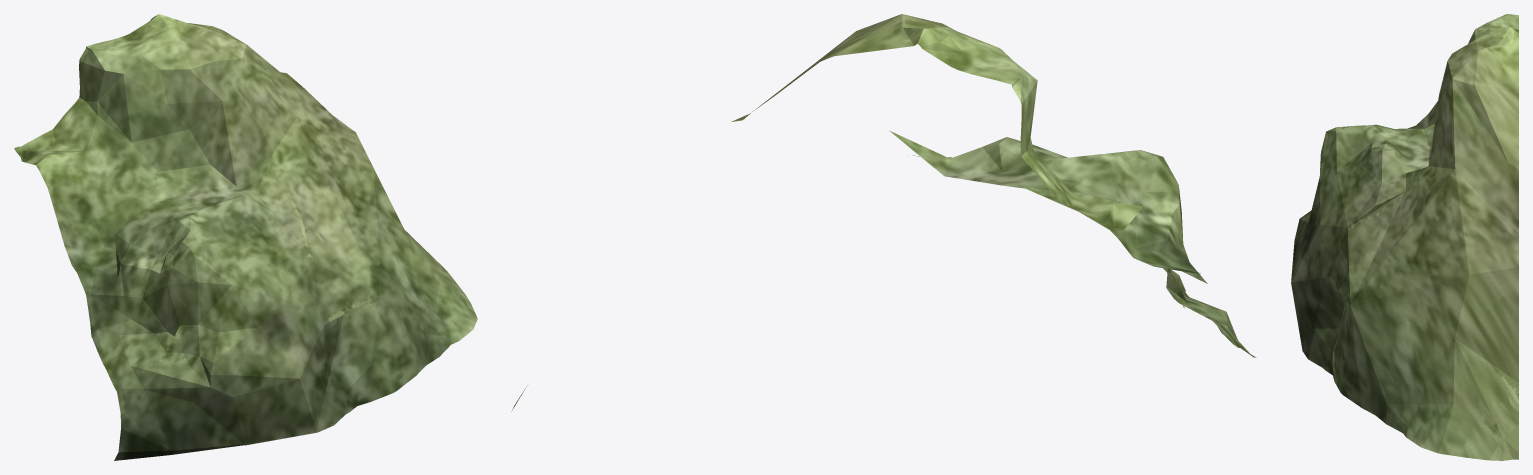
3 views of the same model, side by side, from view 1: azimuth 30°, elevation 25°; view 2: azimuth 150°, elevation 25°; view 3: azimuth 270°, elevation 25° (orthographic). The views are drawn at different scales.
Size of the model in its own units: 2.93 by 2.21 by 1.49.
Materials: 2 (2 with a texture image).
